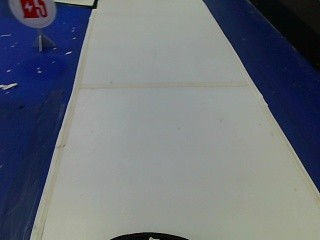battery: (10, 0, 57, 27)
